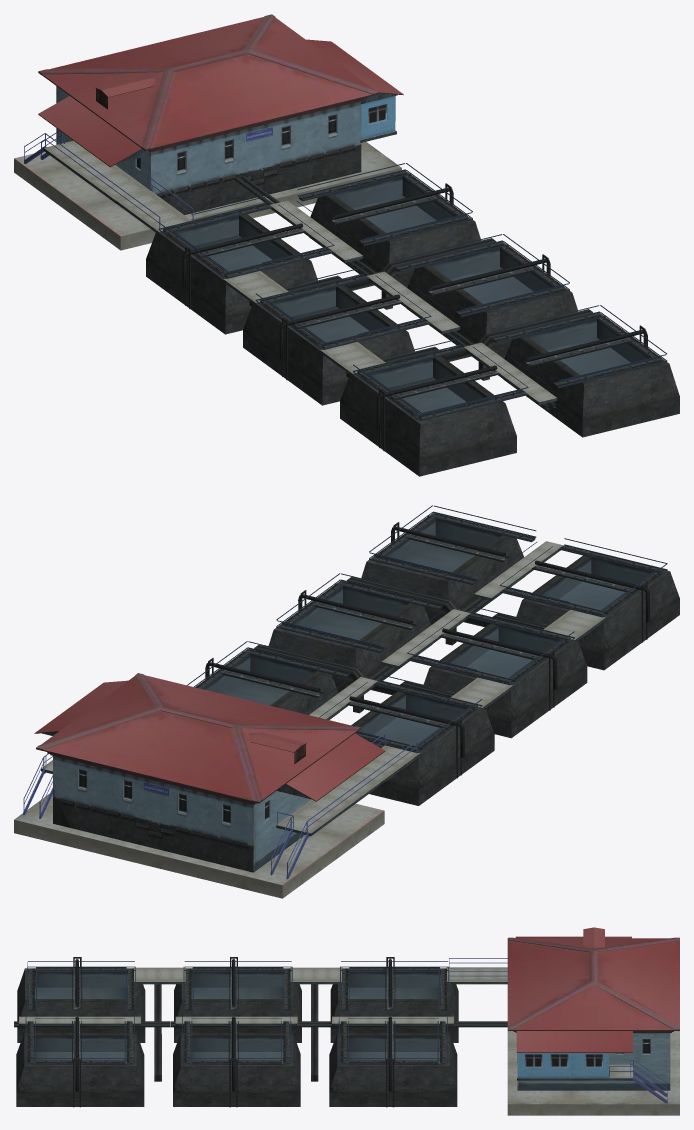
The model's file is treatment-plant.zfix-v14.lod0.glb.
3 views of the same model, one above another, from view 1: azimuth 30°, elevation 25°; view 2: azimuth 150°, elevation 25°; view 3: azimuth 270°, elevation 25° (orthographic). The views are drawn at different scales.
Visible parts, largest first — view 1: Object_4; view 2: Object_4; view 3: Object_4.
Boxes of the visible parts, box(x1,y1,x2,y2) form: Object_4: box(14, 14, 679, 476); Object_4: box(14, 505, 679, 898); Object_4: box(14, 927, 679, 1115).
Size of the model in its own units: 24.92 by 9.72 by 59.56.
Materials: 1 (1 with a texture image).
